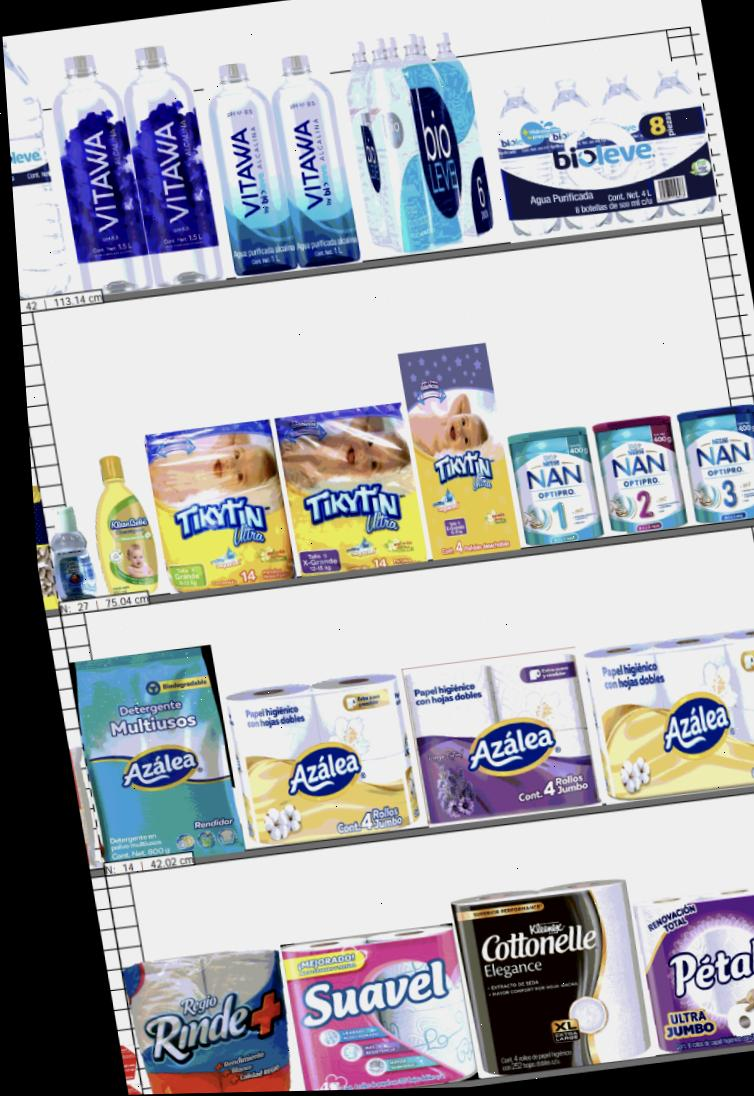aceite_bebe_mennen: (42, 505, 100, 601)
agua_bioleve: (2, 33, 73, 300)
agua_bioleve_6pack: (480, 56, 722, 240), (335, 26, 498, 255)
agua_vitawa_1L: (263, 49, 361, 268), (199, 58, 296, 276)
agua_vitawa_1_5L: (43, 46, 157, 296), (116, 38, 225, 291)
detergente_azaela: (67, 644, 248, 869)
nan_nestle_1: (507, 422, 607, 548)
nan_nestle_2: (594, 414, 688, 533)
nan_nestle_3: (679, 404, 754, 524)
panales_tikytin_extragrande: (274, 399, 433, 578), (398, 342, 523, 560)
panales_tikytin_grande: (140, 418, 297, 591)
papelhigenico_azaela_6rollos: (582, 631, 754, 804)
papelhigenico_azaela_amarillo: (228, 678, 420, 846)
papelhigenico_azaela_azul: (400, 646, 599, 824)
papelhigenico_kleenex_cottonelle: (451, 880, 655, 1077)
papelhigenico_petalo: (636, 881, 754, 1058)
papelhigenico_regio: (111, 942, 300, 1095)
papelhigenico_suavel: (280, 923, 479, 1091)
shampoo_bebe: (77, 450, 162, 596)
